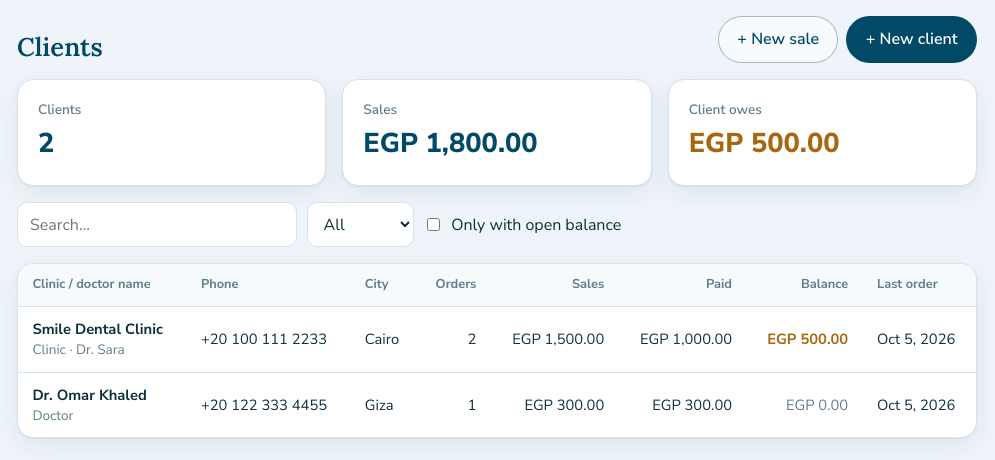
Test: Clients page › lists clients with balances; filters by open balance and type
The image size is (995, 460).
Click the checkbox labelled "Only with open balance" at [434, 225], box [427,218,440,231]
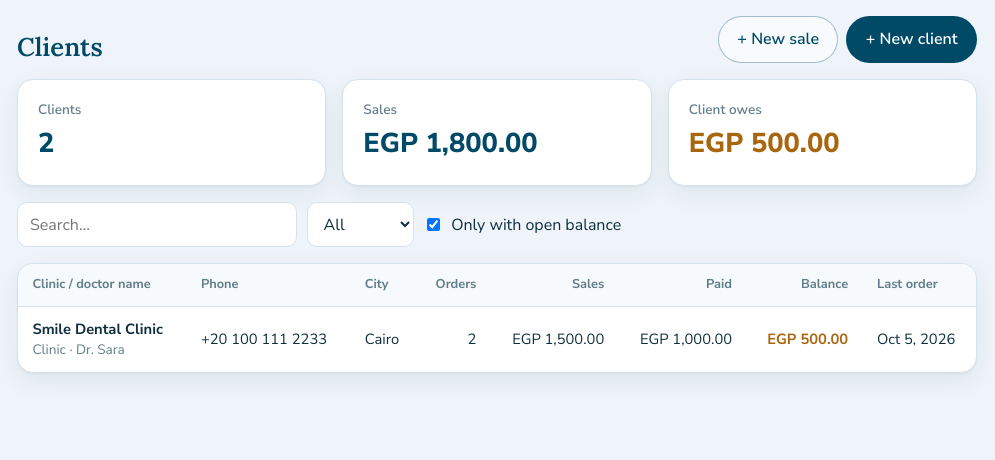
Expected: the text "Dr. Omar Khaled" is gone
Click the checkbox labelled "Only with open balance" at [434, 225], box [427,218,440,231]
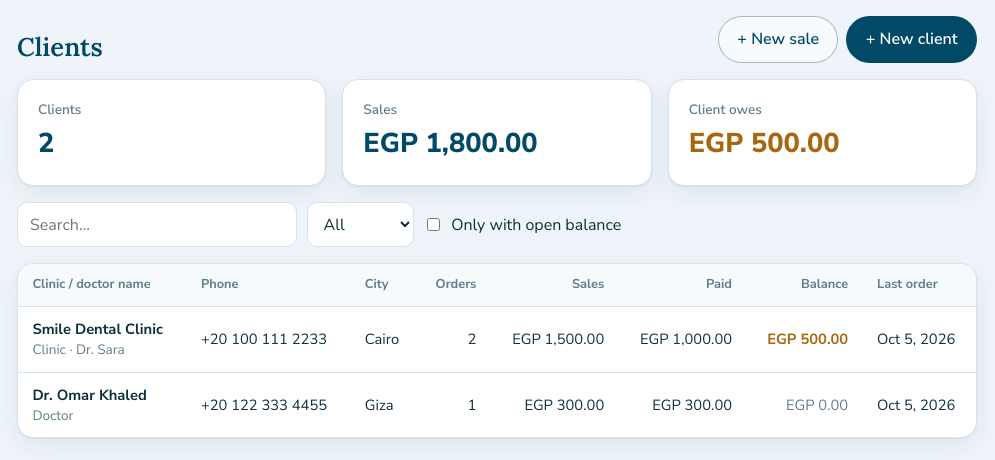
Select "Doctor" in the dropdown showing "All" at [360, 225], box [307,202,414,247]
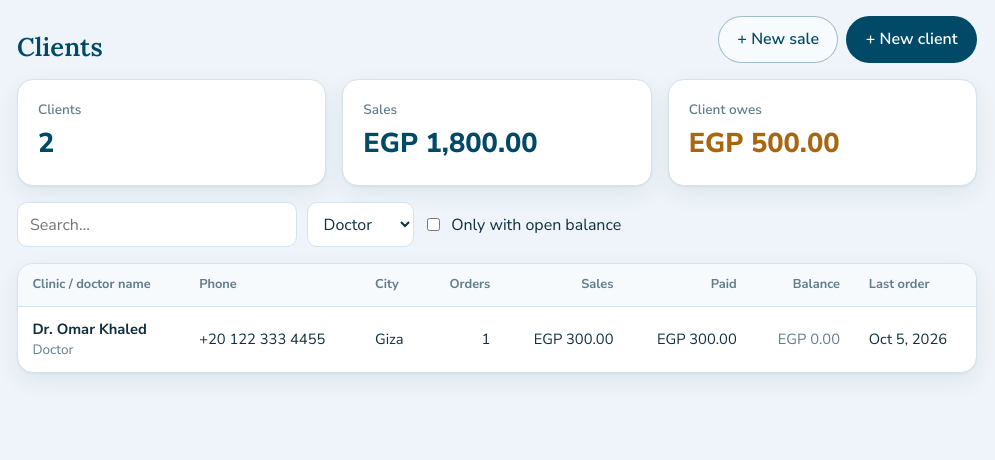
Expected: the text "Dr. Omar Khaled" is shown, [32,319,147,339]
Expected: the text "Smile Dental Clinic" is gone
